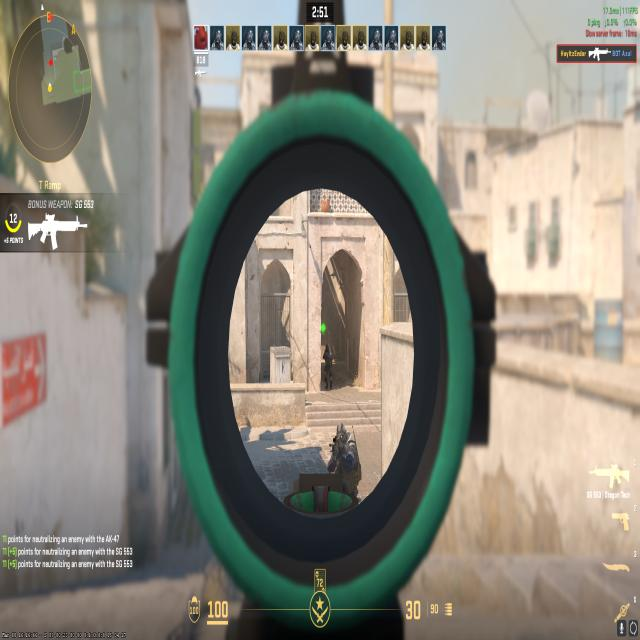ct: (328, 419, 361, 491), (320, 342, 338, 393)
